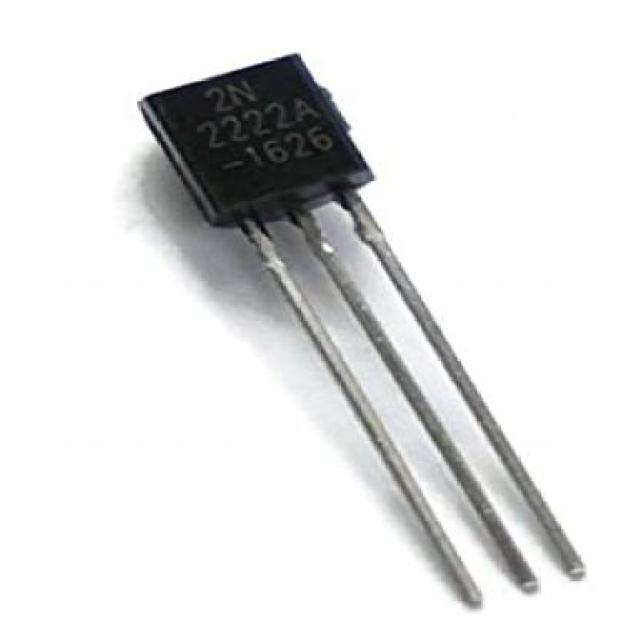Transistor: (137, 52, 586, 611)
